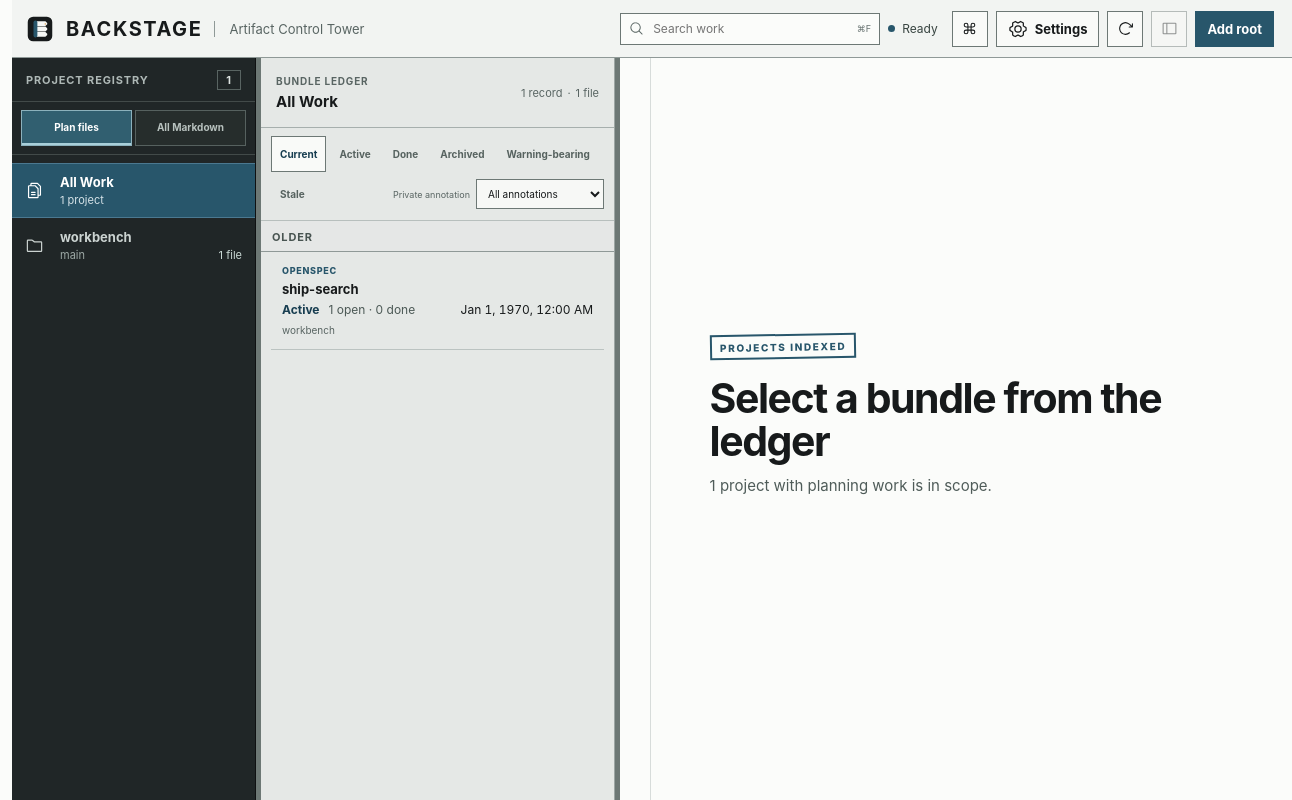
Test: App root discovery › reveals every unique Markdown file and Markdown-only project in All Markdown
Click the button "All Markdown".
click(190, 128)  # box [135, 110, 246, 146]
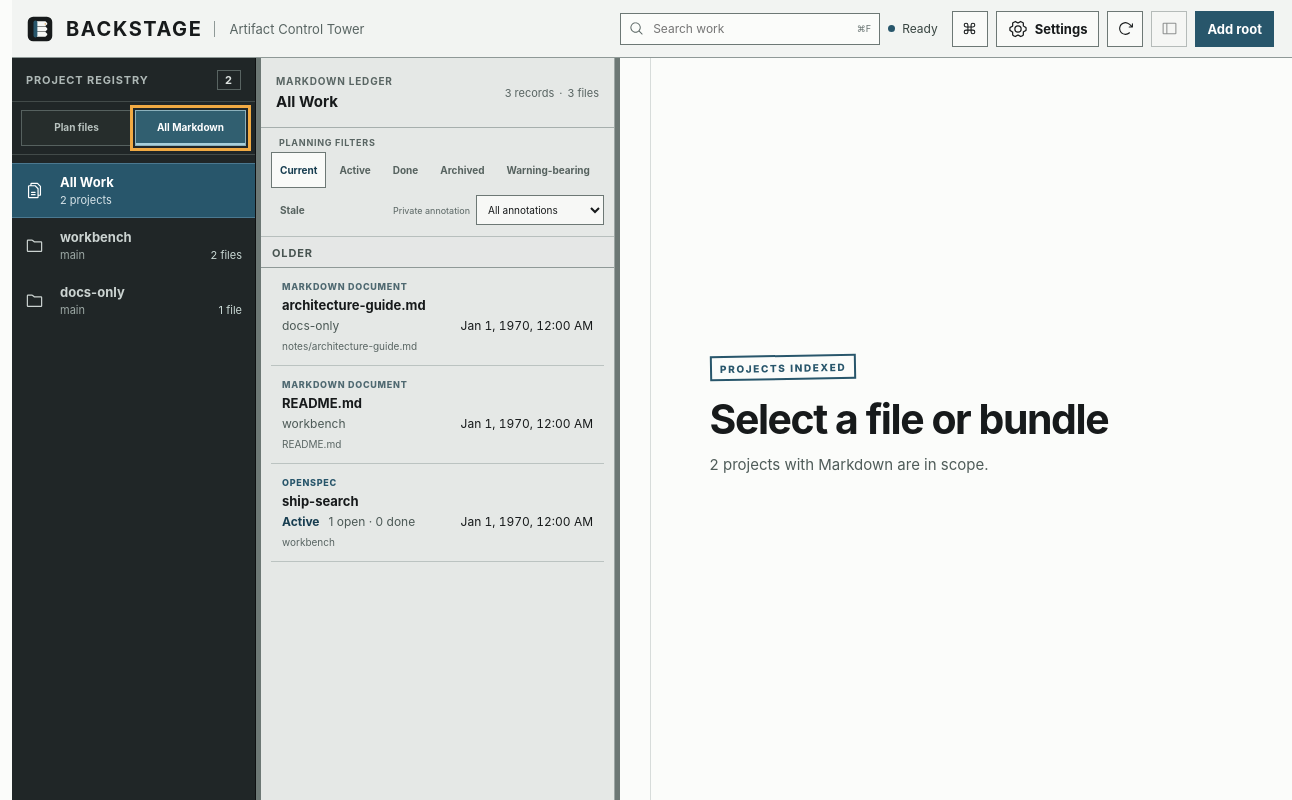
Check: the button "workbench main 2 files" is shown, box [12, 218, 255, 273]
Check: the button "docs-only main 1 file" is shown, box [12, 273, 255, 328]
Check: the button with aria-label "All Work, 2 projects" is shown, box [12, 163, 255, 218]
Type "notes/architecture" into the search field named "Search all indexed work".
click(750, 28); type("notes/architecture")  # box [651, 20, 850, 37]
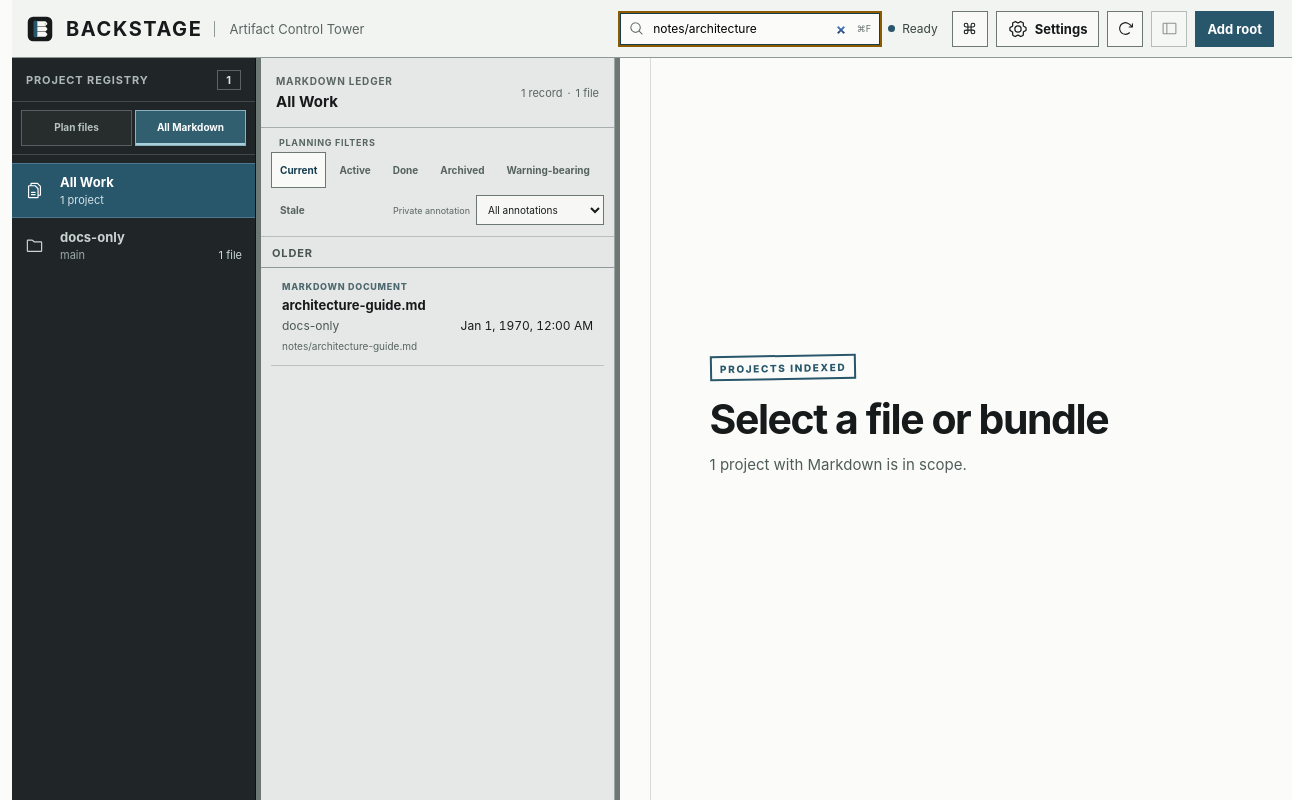
Check: the button "architecture-guide.md" is shown, box [271, 268, 604, 366]
Check: the button "README.md" is gone
